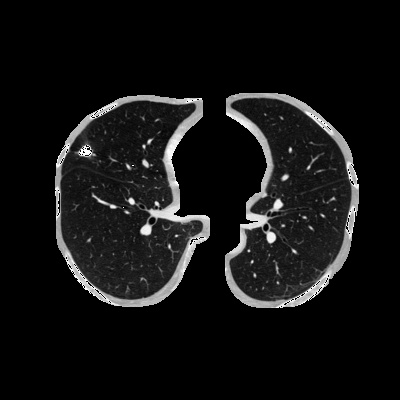PN: (79, 145, 91, 157)
